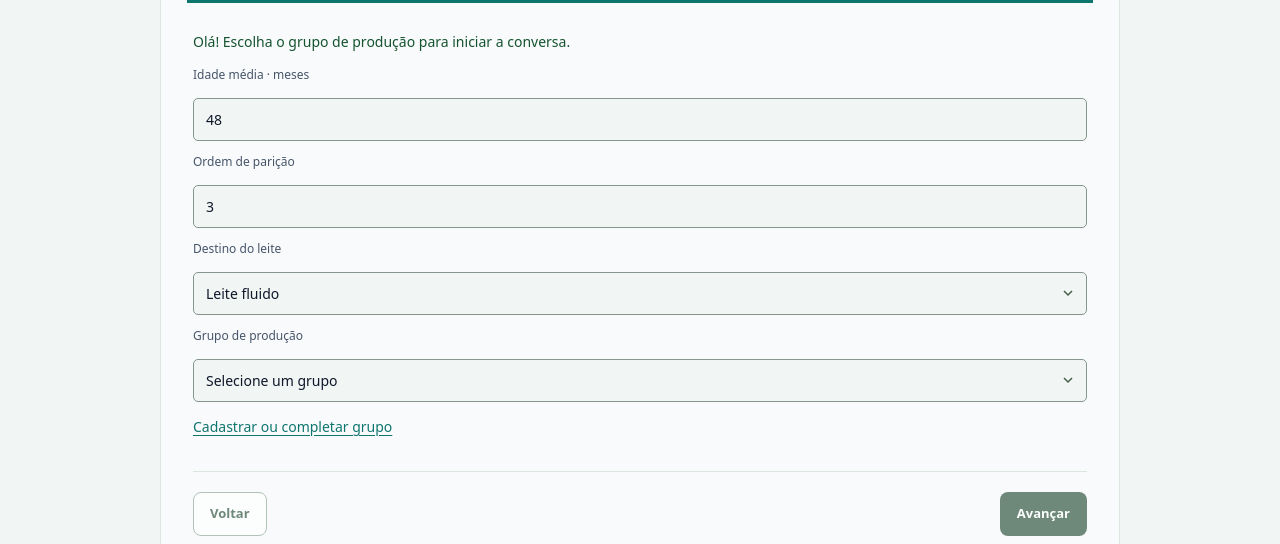
Test: unavailable NASEM estimate displays backend explanation and retains profile intake
This screenshot has width=1280, height=544.
Expected: the button "Avançar" is disabled, [1000,492,1087,536]
Step 1. Select "Grupo A · lactacao" in the dropdown labelled "Grupo de produção" → (640, 380), box [193,359,1087,402]
(page scrolled)
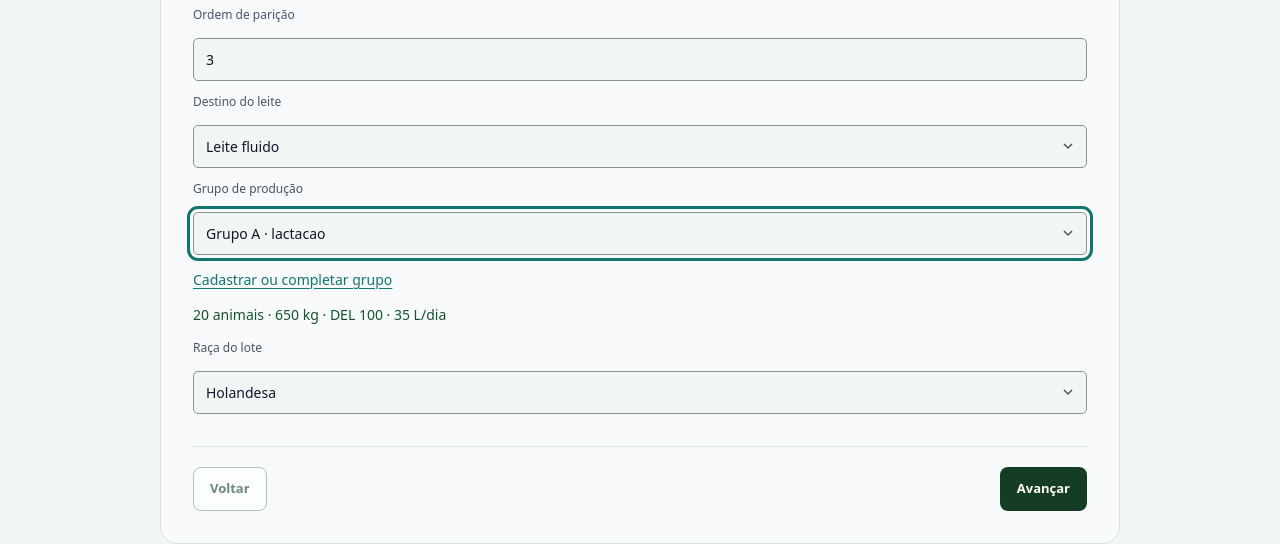
Step 2. Click the button "Avançar" → (1043, 489), box [1000,467,1087,511]
(page scrolled)
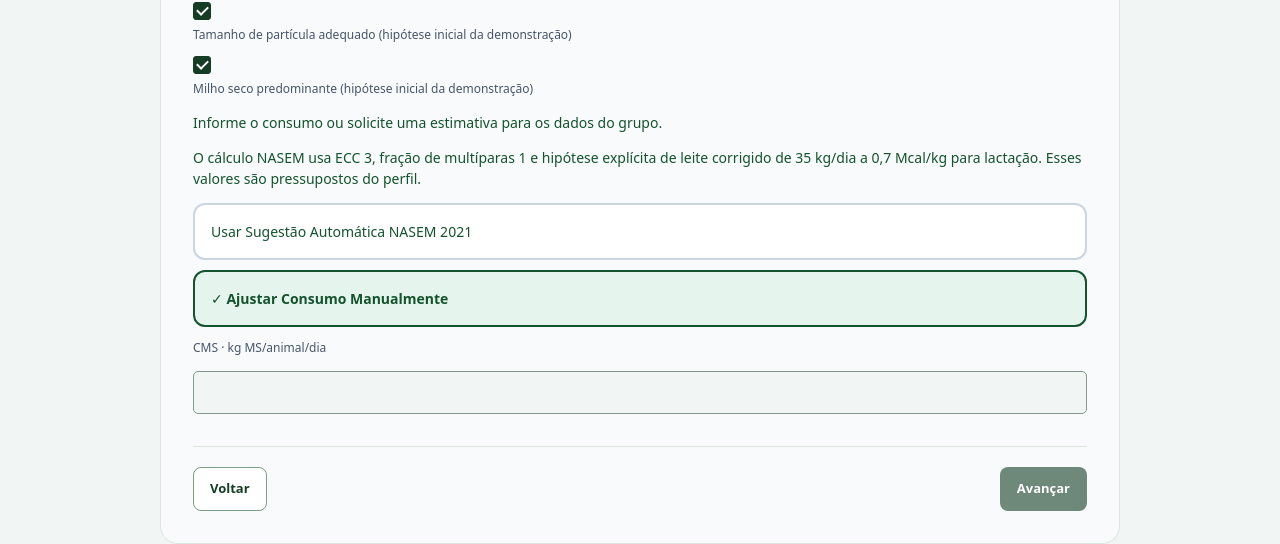
Step 3. Type "24" into the number field labelled "CMS · kg MS/animal/dia" → (640, 392), box [193,371,1087,414]
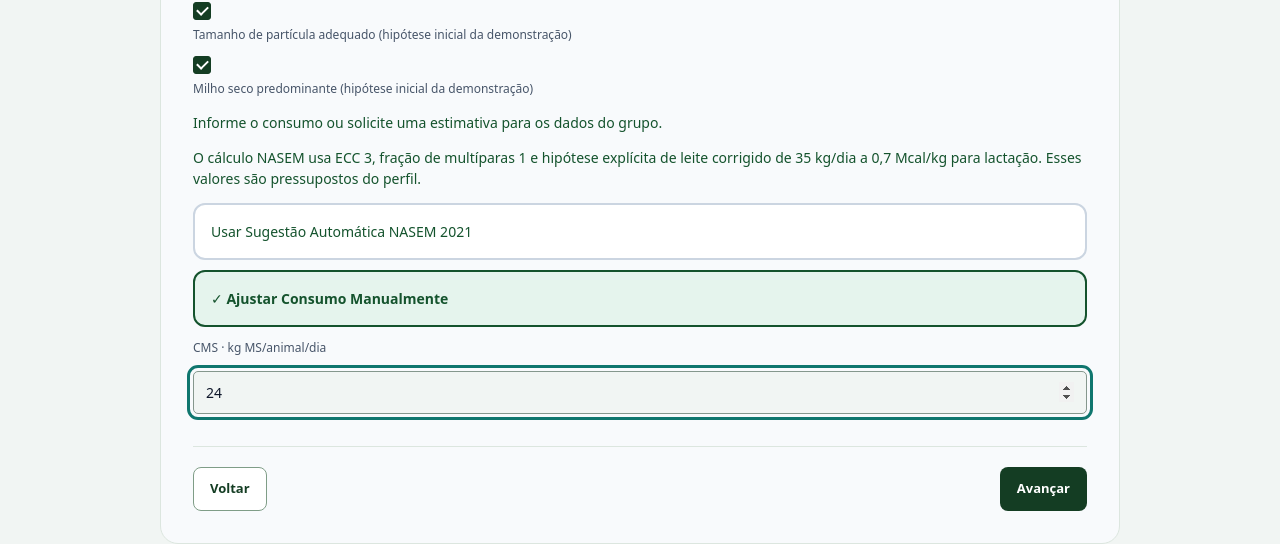
Step 4. Click the button "Usar Sugestão Automática NASEM 2021" → (342, 231), box [193,203,1087,260]
(page scrolled)
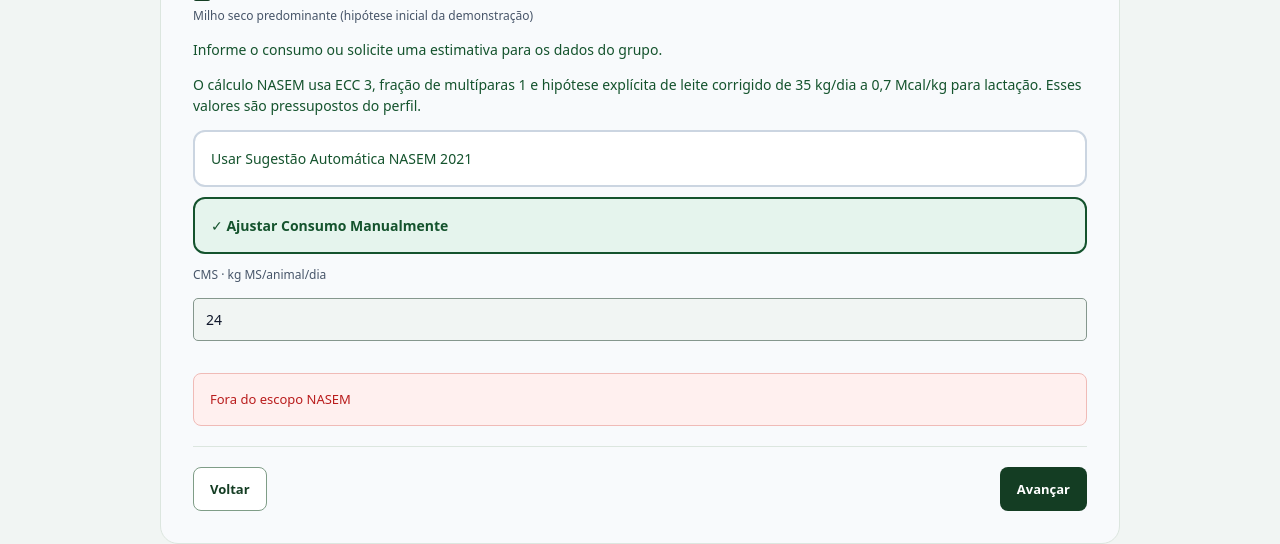
Expected: the button "Avançar" is enabled, [1000,467,1087,511]
Expected: the message reads "Fora do escopo NASEM", [210,390,351,408]
